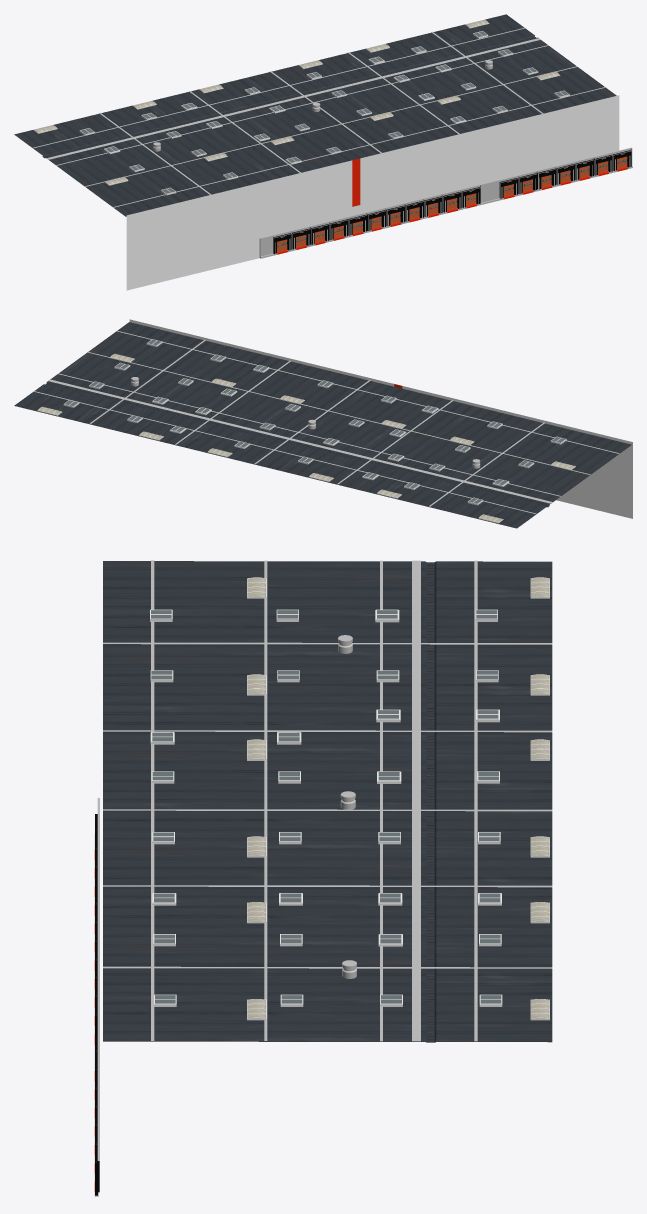
The model's file is SM_TNTBuilding_Part03.fbx.
The picture shows the model from 3 angles, top to bottom: view 1: azimuth 30°, elevation 25°; view 2: azimuth 150°, elevation 25°; view 3: azimuth 270°, elevation 25°; orthographic projection. The views are drawn at different scales.
Visible parts, largest first — view 1: SM_TNTBuilding_Part03_LOD0; view 2: SM_TNTBuilding_Part03_LOD0; view 3: SM_TNTBuilding_Part03_LOD0.
Part boxes in pixels (x1,y1,x2,y2): SM_TNTBuilding_Part03_LOD0: [14, 14, 632, 290]; SM_TNTBuilding_Part03_LOD0: [14, 319, 632, 528]; SM_TNTBuilding_Part03_LOD0: [94, 560, 552, 1196].
Size of what is drawn, in the model's own units: 12168 by 1830 by 4771.
